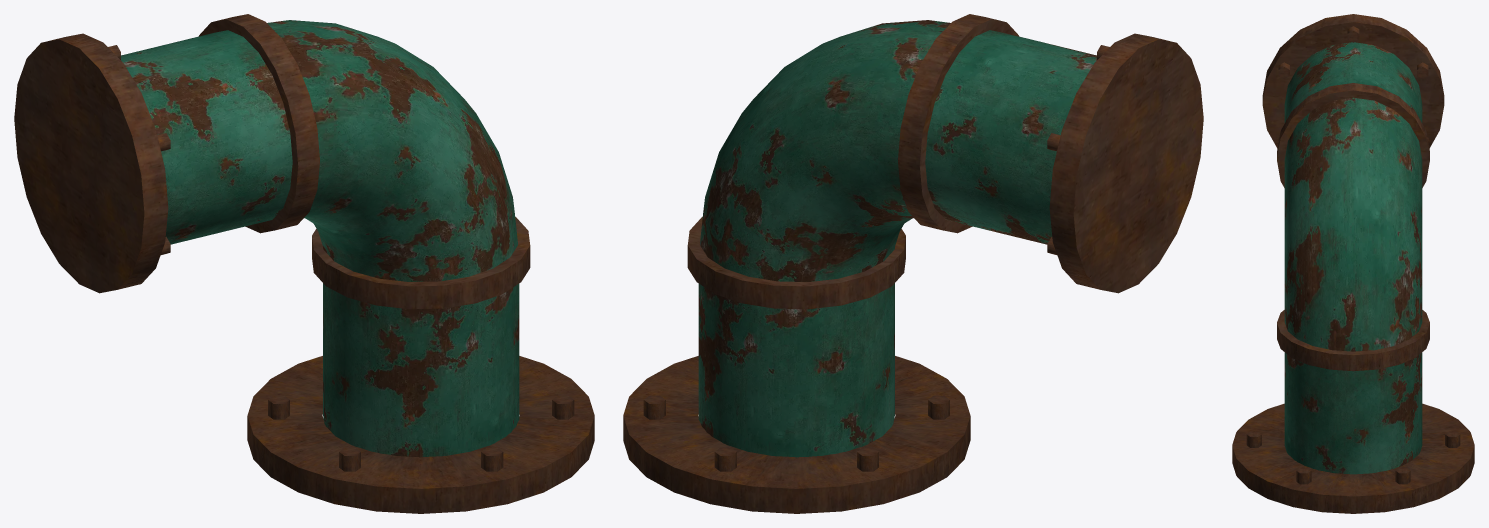
Rendered from prop_pipeEnd.glb.
The picture shows the model from 3 angles, left to right: view 1: azimuth 30°, elevation 25°; view 2: azimuth 150°, elevation 25°; view 3: azimuth 270°, elevation 25°; orthographic projection. The views are drawn at different scales.
Visible parts, largest first — view 1: prop; view 2: prop; view 3: prop.
Part boxes in pixels (x1=…): prop: x1=14, y1=14, x2=594, y2=513; prop: x1=623, y1=14, x2=1203, y2=513; prop: x1=1232, y1=14, x2=1474, y2=513.
Size of what is drawn, in the model's own units: 0.72 by 0.665 by 0.44.
2 materials, 2 textured.
